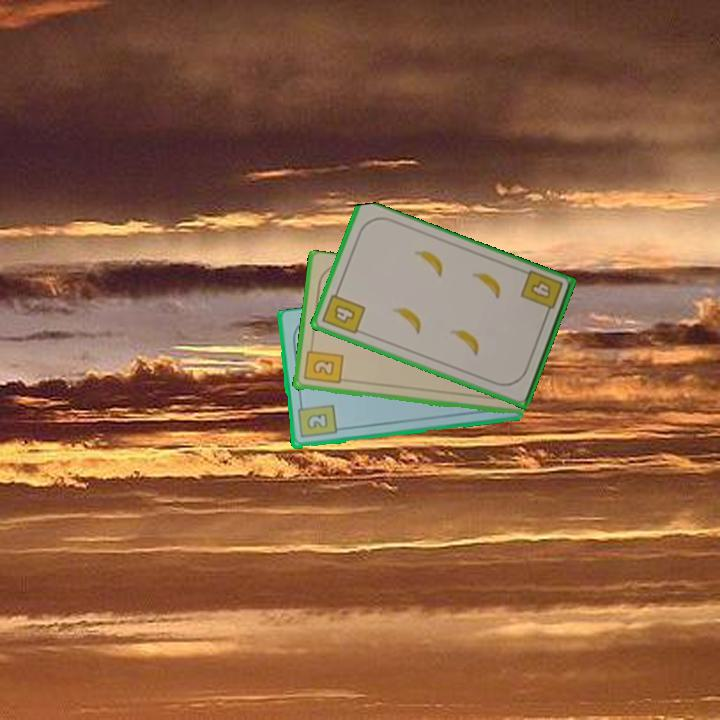2b: (300, 341, 345, 387), (294, 399, 339, 441)
4b: (517, 267, 566, 320), (319, 285, 368, 337)
